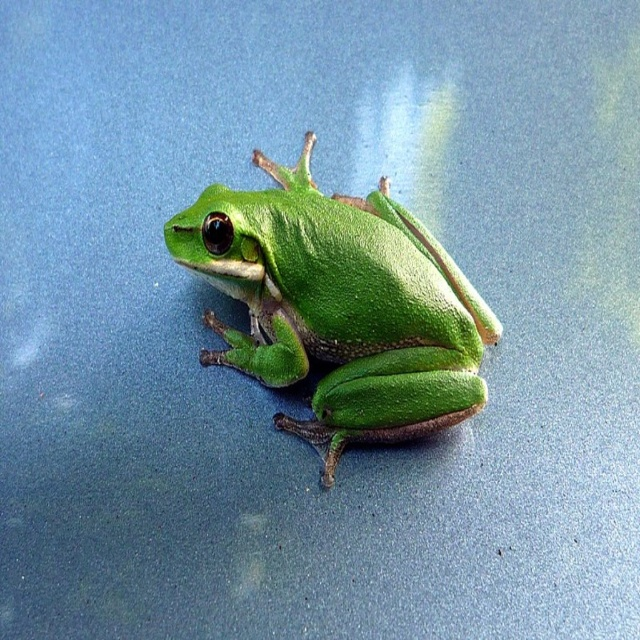Frog: (161, 130, 506, 491)
